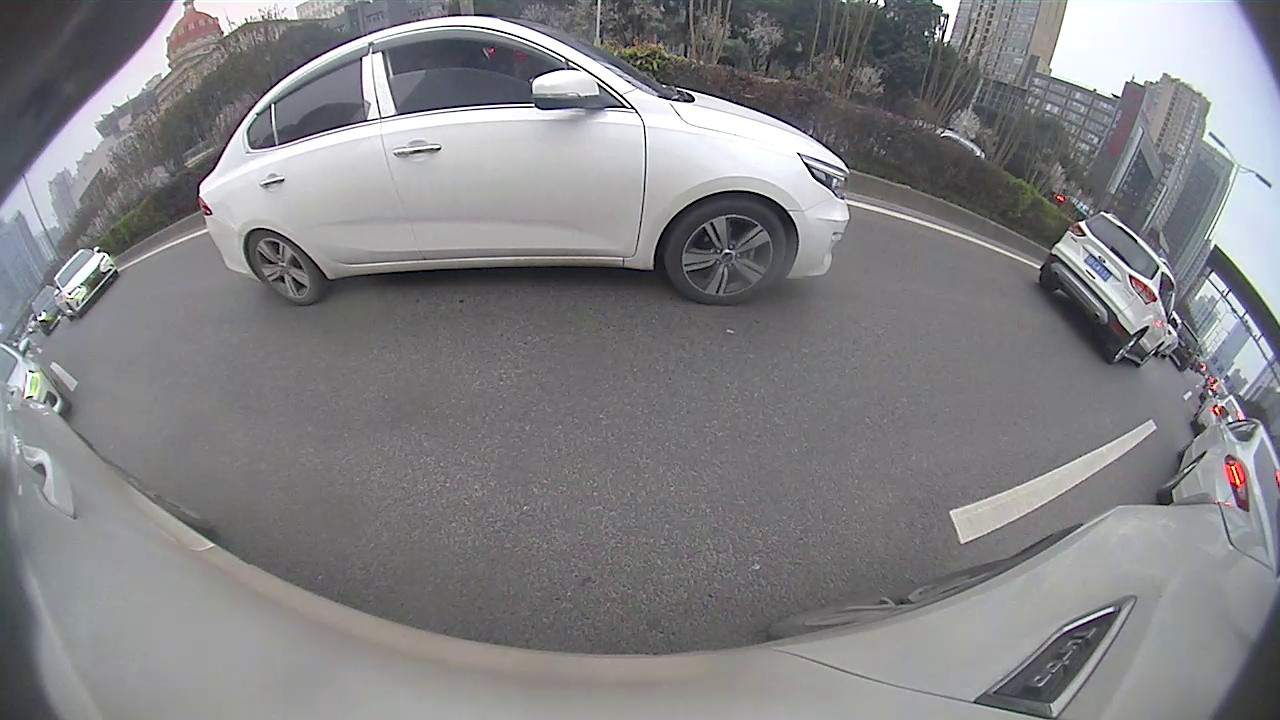car: (196, 14, 852, 306), (1039, 206, 1179, 369), (1154, 402, 1278, 531), (49, 244, 120, 322)
front: (660, 195, 789, 308)
rear: (245, 227, 324, 304), (1109, 330, 1142, 365)
